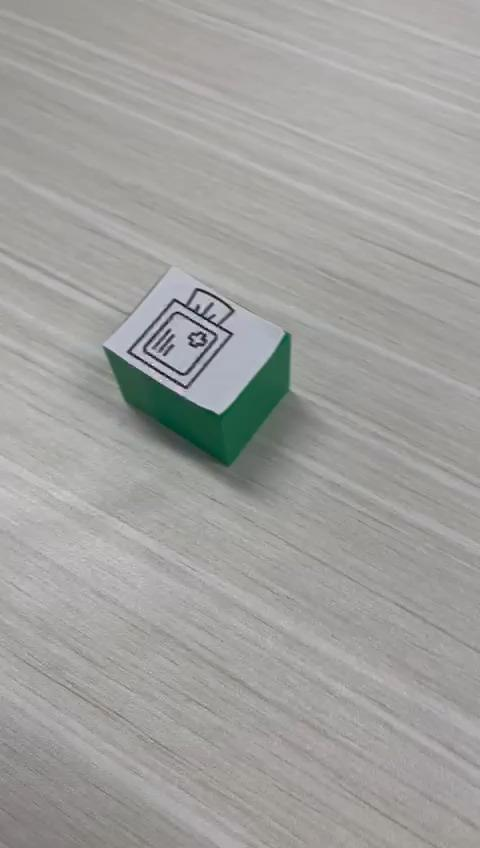Gauze: (100, 264, 292, 467)
